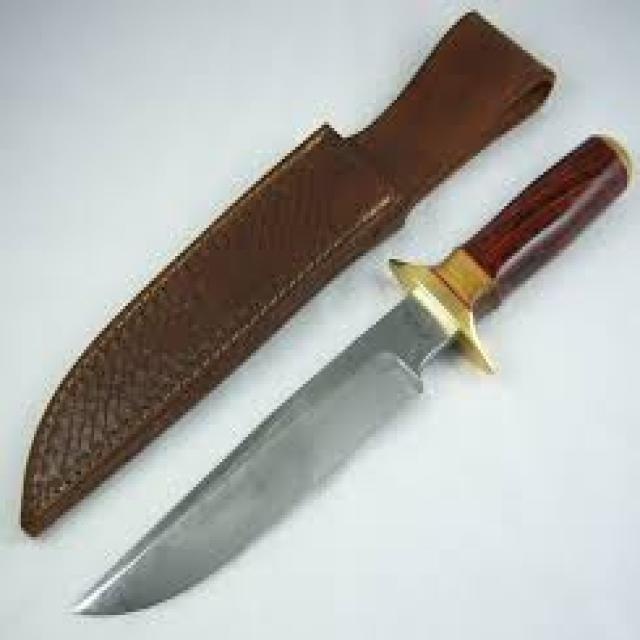knives: (71, 290, 450, 611)
